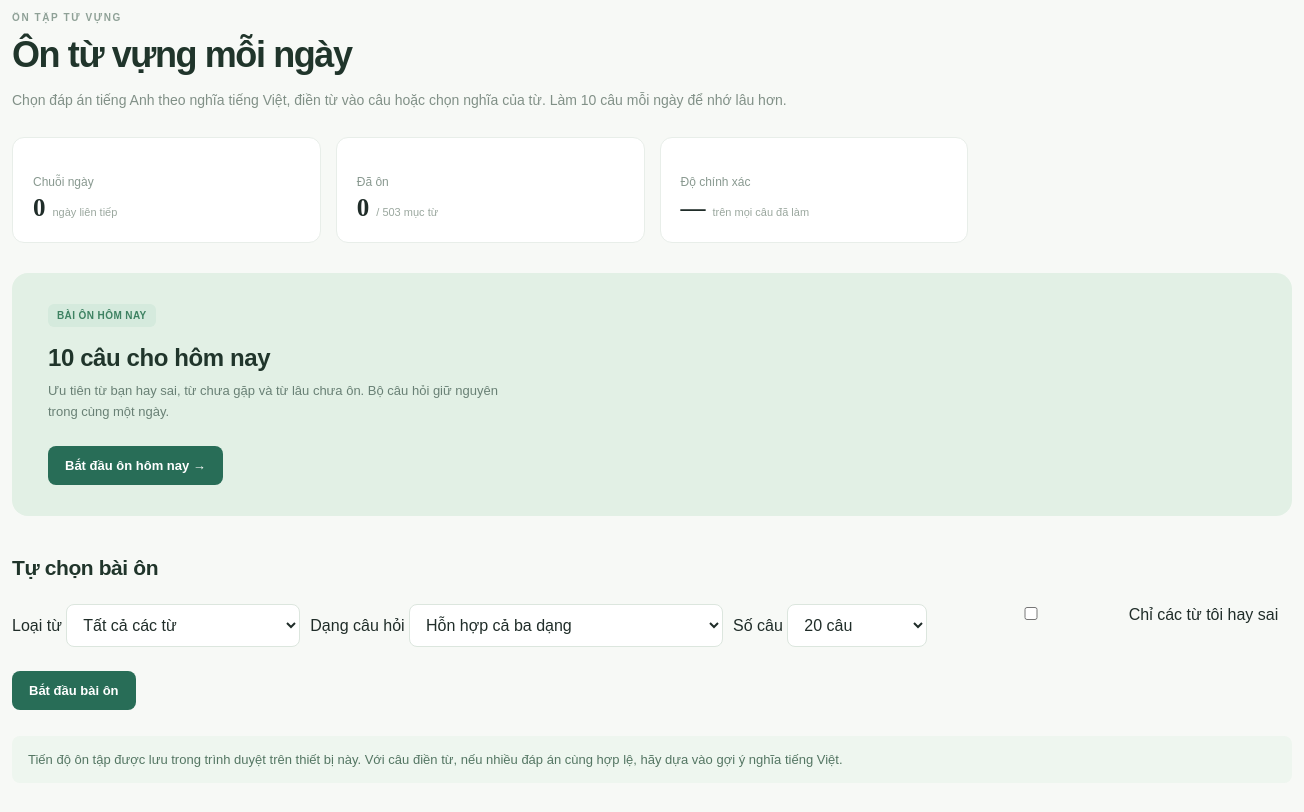
Scenario: tự chọn tất cả giới từ theo dạng nghĩa tiếng Việt
Select "Giới từ (15)" in the dropdown labelled "Loại từ" at {"x": 183, "y": 625}, box [66,604,300,647]
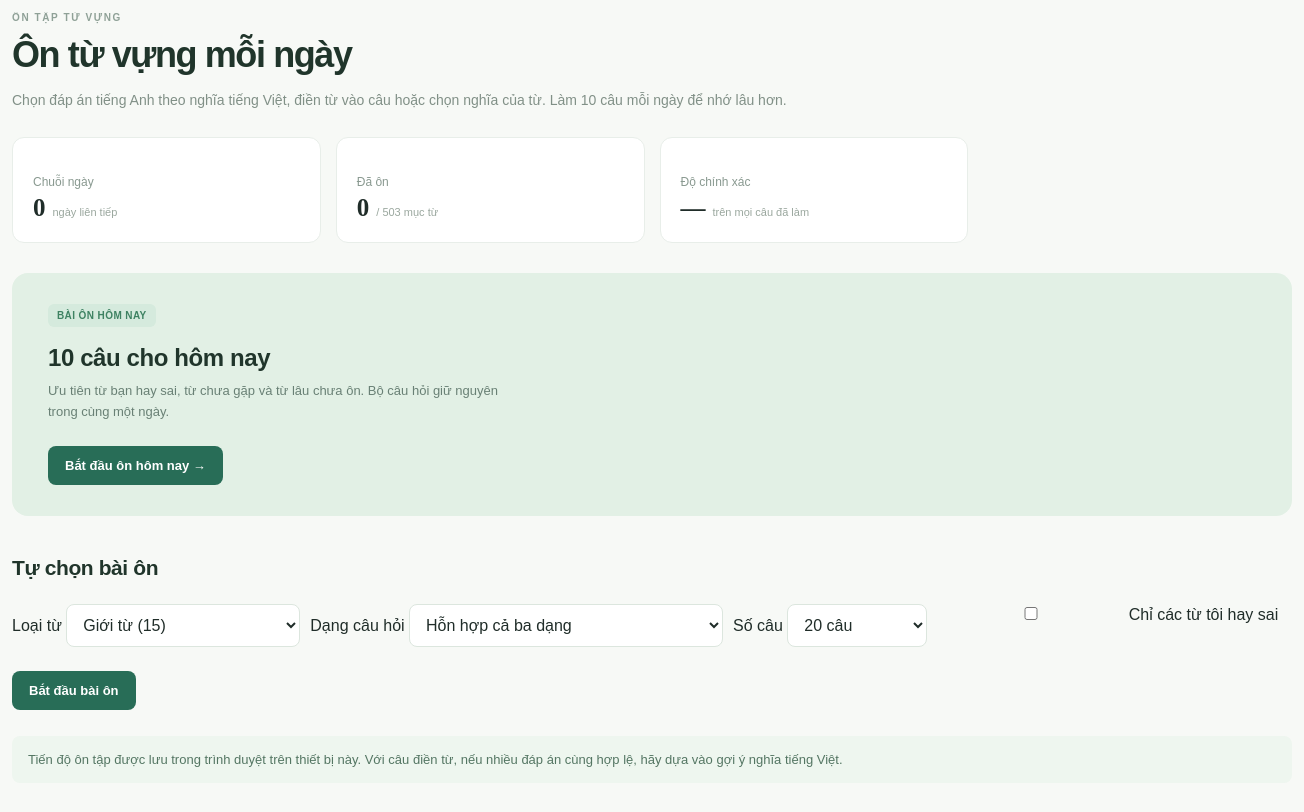
Select "Nghĩa tiếng Việt → chọn từ tiếng Anh" in the dropdown labelled "Dạng câu hỏi" at {"x": 566, "y": 625}, box [409,604,723,647]
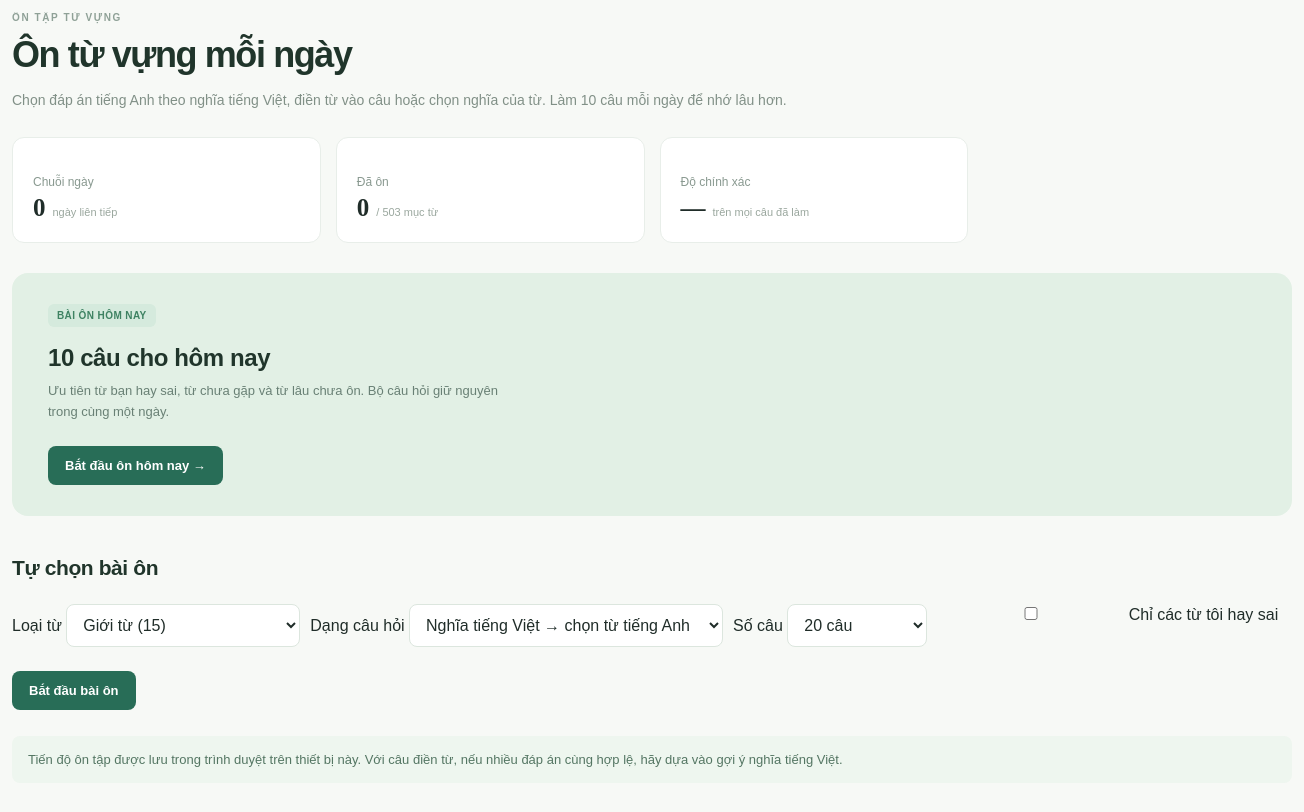
Select "Tất cả các từ" in the dropdown labelled "Số câu" at {"x": 857, "y": 625}, box [787,604,927,647]
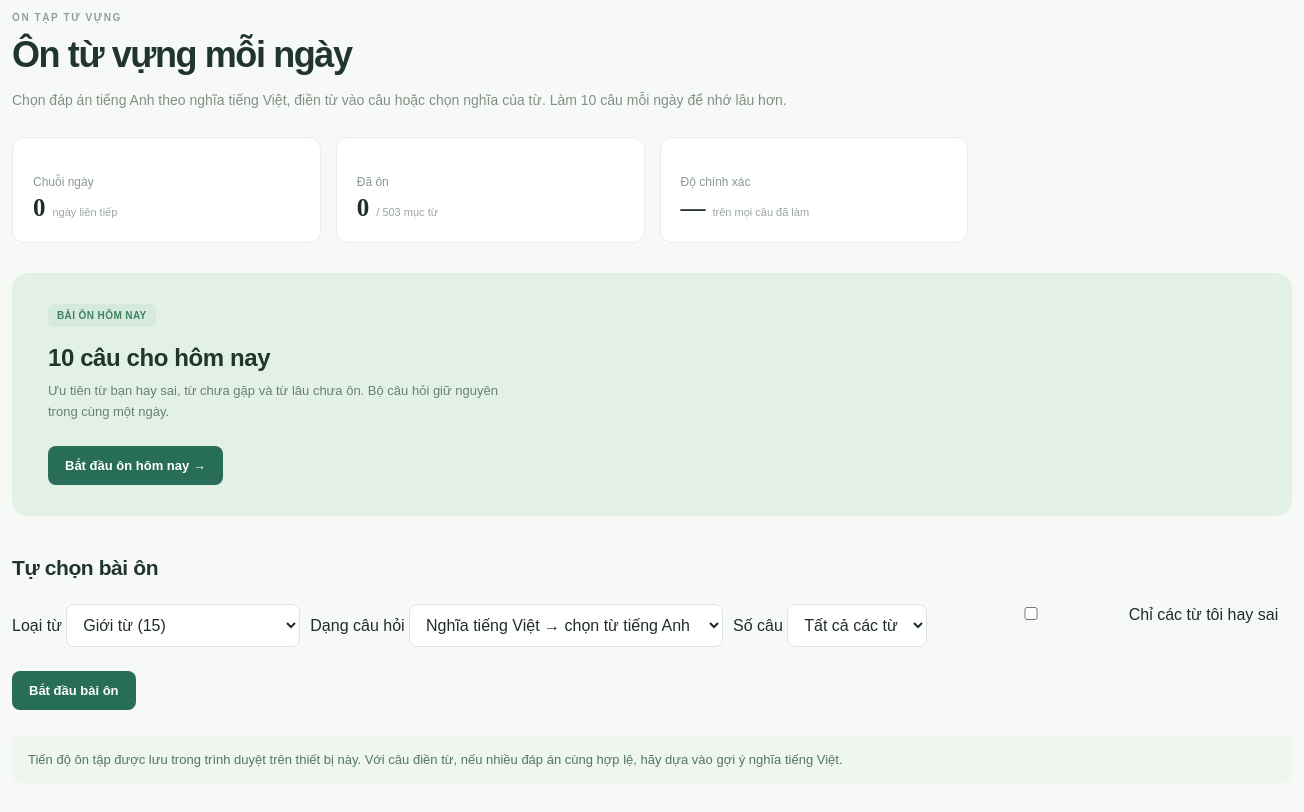
Click the button "Bắt đầu bài ôn" at {"x": 74, "y": 690}, box [12,671,136,710]
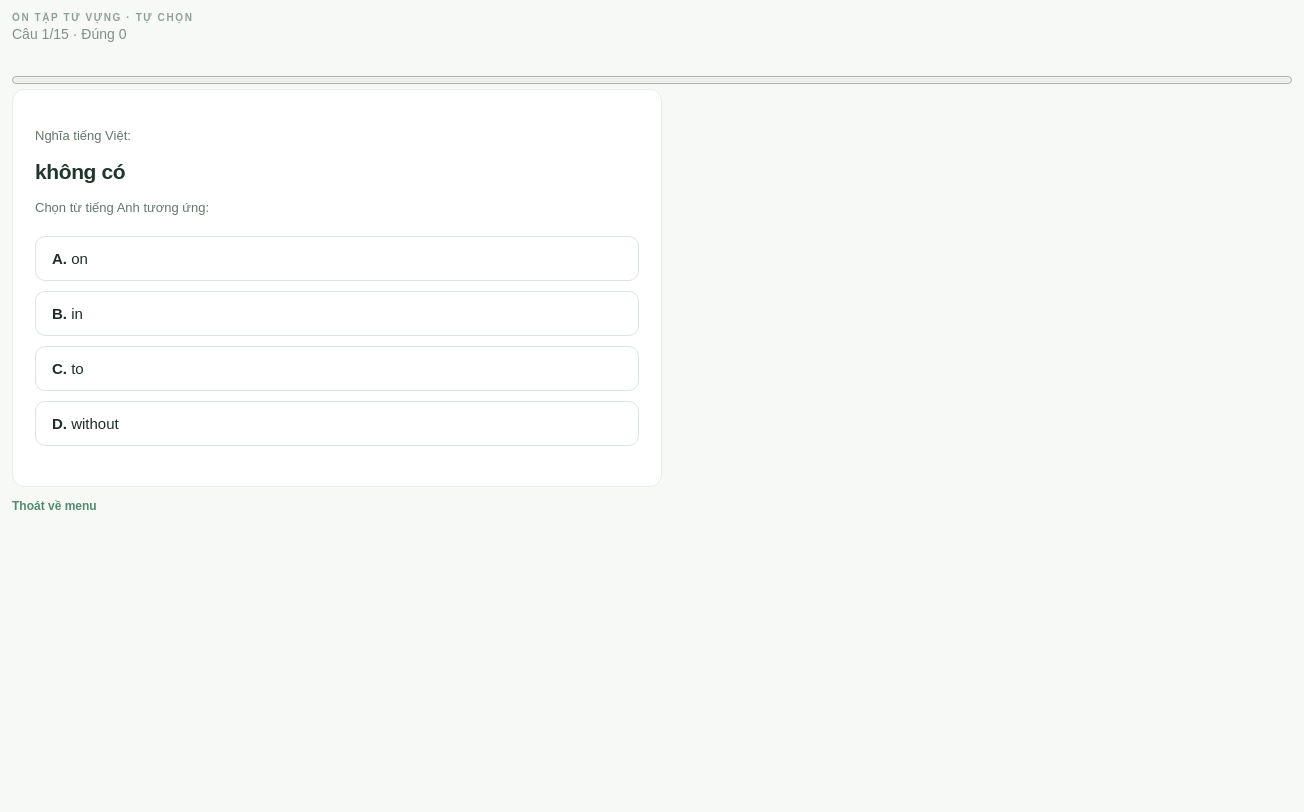
Result: the text "Câu 1/15 · Đúng 0" is shown at [12,26,126,42]
Result: the text "Nghĩa tiếng Việt:" is shown at [35,128,131,143]
